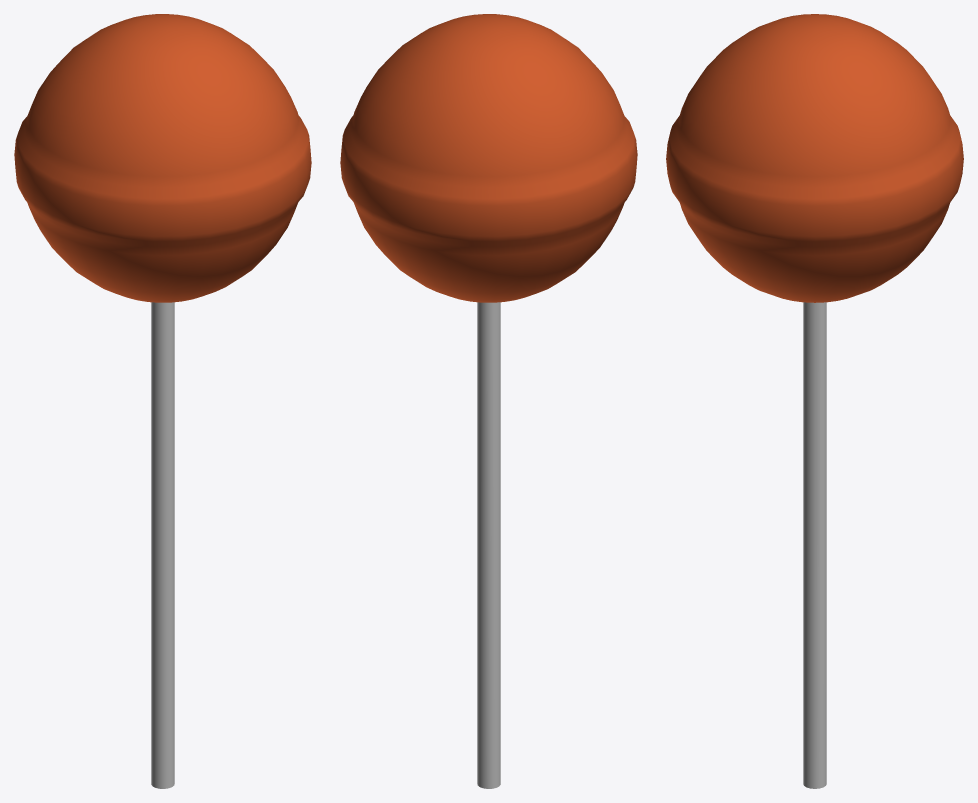
File: lollipopA.obj
The picture shows the model from 3 angles, left to right: view 1: azimuth 30°, elevation 25°; view 2: azimuth 150°, elevation 25°; view 3: azimuth 270°, elevation 25°; orthographic projection.
Parts seen in each view (by area): view 1: Head_Sphere, Stick_Circle; view 2: Head_Sphere, Stick_Circle; view 3: Head_Sphere, Stick_Circle.
Boxes of the visible parts, <box> form: Head_Sphere: <box>14,14,311,302</box>; Stick_Circle: <box>151,302,174,788</box>; Head_Sphere: <box>340,14,637,302</box>; Stick_Circle: <box>477,302,500,788</box>; Head_Sphere: <box>666,14,963,302</box>; Stick_Circle: <box>803,302,826,788</box>.
Size of the model in its own units: 0.0301 by 0.0845 by 0.0301.
